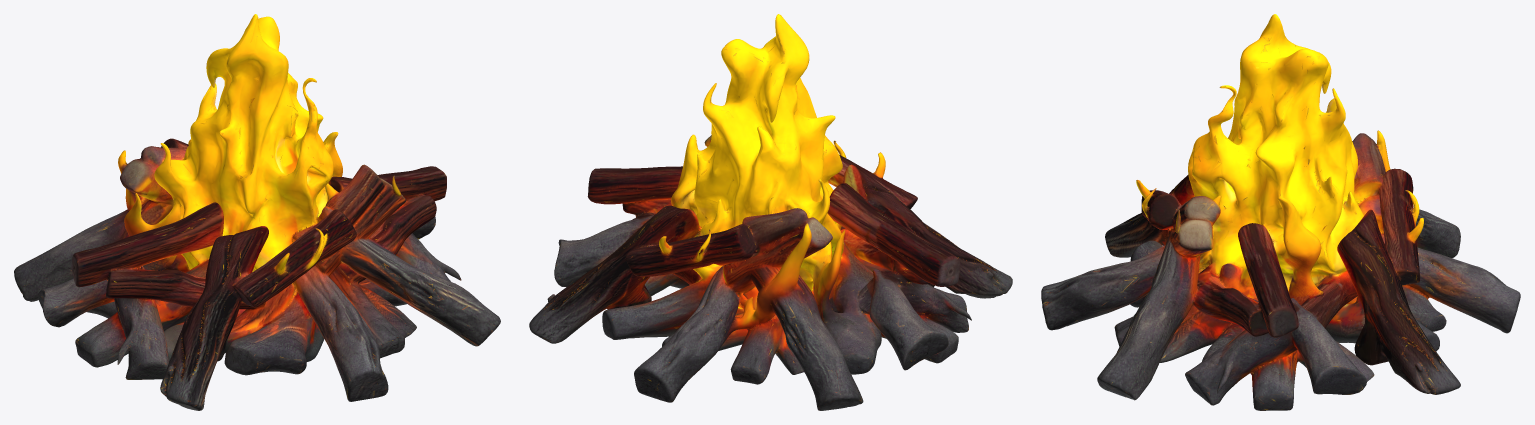
File: Meshy_AI_fire_pit.glb
The picture shows the model from 3 angles, left to right: view 1: azimuth 30°, elevation 25°; view 2: azimuth 150°, elevation 25°; view 3: azimuth 270°, elevation 25°; orthographic projection.
Parts seen in each view (by area): view 1: Mesh_0; view 2: Mesh_0; view 3: Mesh_0.
Part boxes in pixels (x1,y1,x2,y2): Mesh_0: (14,14,500,410); Mesh_0: (529,14,1012,410); Mesh_0: (1041,14,1520,410).
Size of the model in its own units: 1.82 by 1.36 by 1.91.
1 material, 1 textured.
